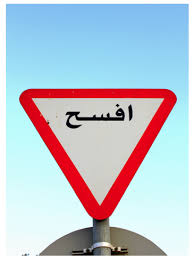yield_sign: (17, 87, 177, 221)
